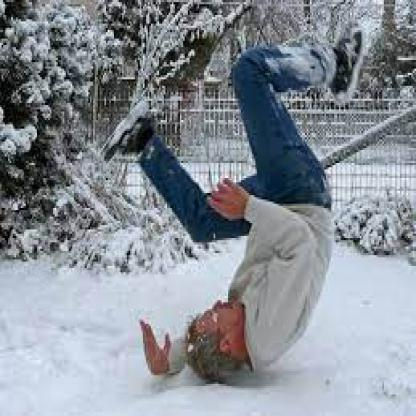Fall_Down: (100, 25, 364, 380)
